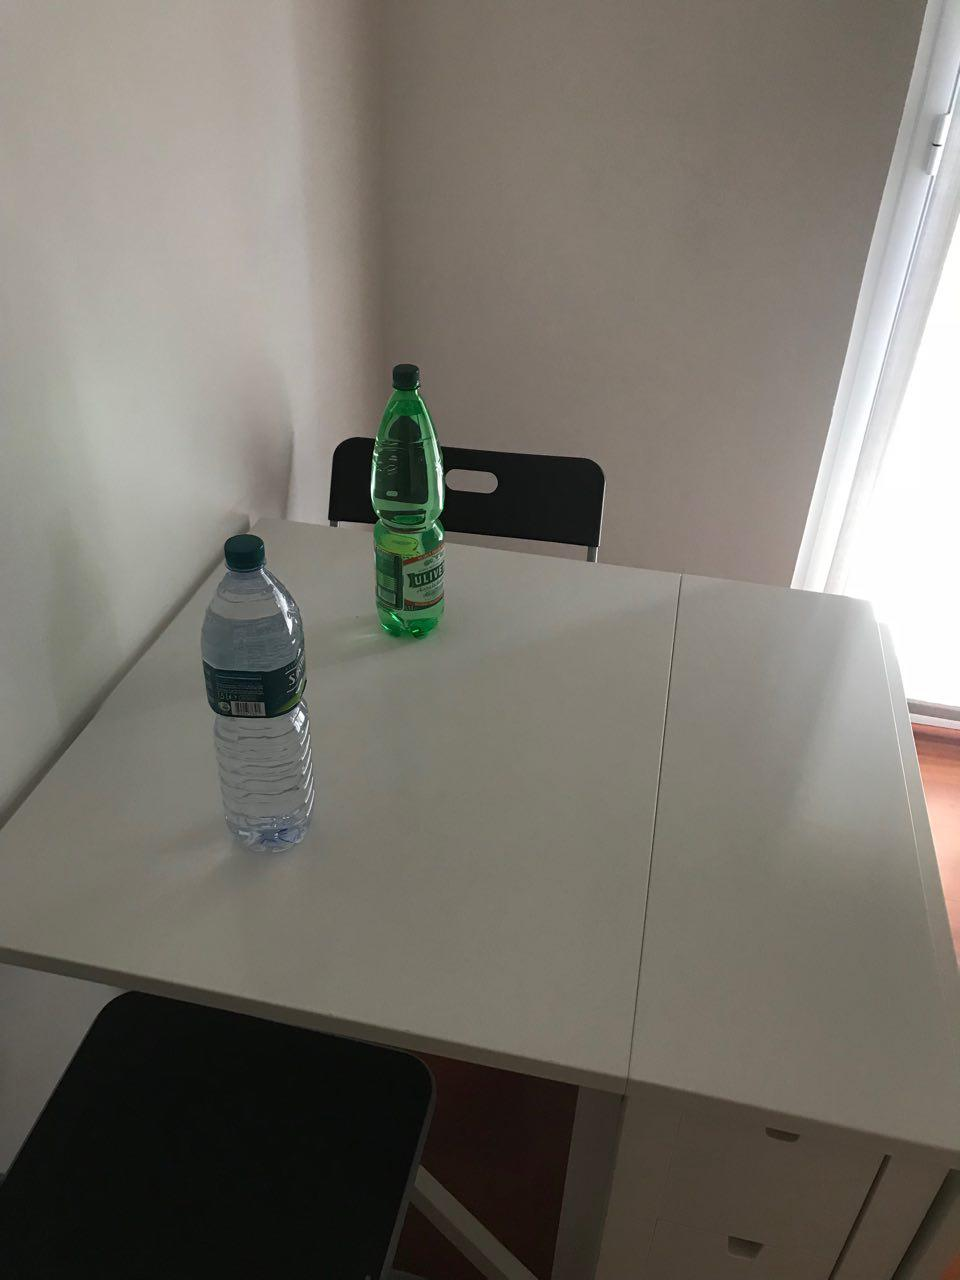san_bernardo: (200, 535, 318, 854)
